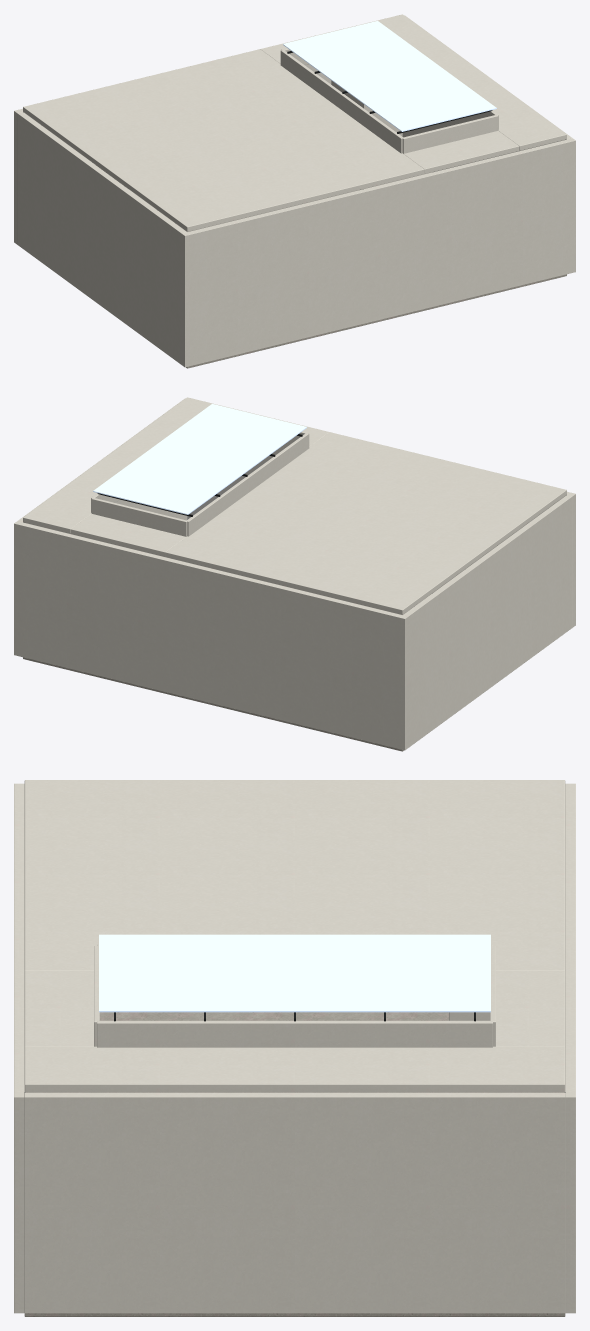
Rendered from white-cube-mobile.glb.
3 views of the same model, one above another, from view 1: azimuth 30°, elevation 25°; view 2: azimuth 150°, elevation 25°; view 3: azimuth 270°, elevation 25° (orthographic). The views are drawn at different scales.
Visible parts, largest first — view 1: SHELL_south, OVERHEAD_Ceiling finish, SHELL_west, OVERHEAD_Rooflight diffuse sky, OVERHEAD_Mineral plaster, SHELL_Floor, SHELL_north, SHELL_east; view 2: SHELL_north, OVERHEAD_Ceiling finish, SHELL_west, OVERHEAD_Rooflight diffuse sky, OVERHEAD_Mineral plaster, SHELL_Floor, SHELL_south, SHELL_east; view 3: OVERHEAD_Ceiling finish, SHELL_east, OVERHEAD_Rooflight diffuse sky, OVERHEAD_Mineral plaster, SHELL_north, SHELL_south, SHELL_Floor.
Part boxes in pixels (x1=…): SHELL_south: x1=181, y1=138, x2=575, y2=367; OVERHEAD_Ceiling finish: x1=23, y1=14, x2=566, y2=231; SHELL_west: x1=17, y1=112, x2=186, y2=364; OVERHEAD_Rooflight diffuse sky: x1=283, y1=21, x2=496, y2=131; OVERHEAD_Mineral plaster: x1=280, y1=48, x2=498, y2=153; SHELL_Floor: x1=159, y1=172, x2=566, y2=368; SHELL_north: x1=14, y1=15, x2=407, y2=244; SHELL_east: x1=402, y1=18, x2=572, y2=172; SHELL_north: x1=14, y1=521, x2=408, y2=750; OVERHEAD_Ceiling finish: x1=23, y1=397, x2=566, y2=614; SHELL_west: x1=403, y1=495, x2=572, y2=747; OVERHEAD_Rooflight diffuse sky: x1=93, y1=404, x2=306, y2=514; OVERHEAD_Mineral plaster: x1=91, y1=431, x2=309, y2=536; SHELL_Floor: x1=23, y1=555, x2=430, y2=751; SHELL_south: x1=182, y1=398, x2=575, y2=627; SHELL_east: x1=17, y1=401, x2=187, y2=555; OVERHEAD_Ceiling finish: x1=24, y1=780, x2=565, y2=1092; SHELL_east: x1=24, y1=1092, x2=565, y2=1313; OVERHEAD_Rooflight diffuse sky: x1=99, y1=934, x2=490, y2=1012; OVERHEAD_Mineral plaster: x1=94, y1=944, x2=495, y2=1047; SHELL_north: x1=565, y1=783, x2=575, y2=1313; SHELL_south: x1=14, y1=783, x2=24, y2=1313; SHELL_Floor: x1=24, y1=1012, x2=565, y2=1316.
Size of what is drawn, in the model's own units: 16.48 by 6.57 by 12.48.
12 materials, 8 textured.
